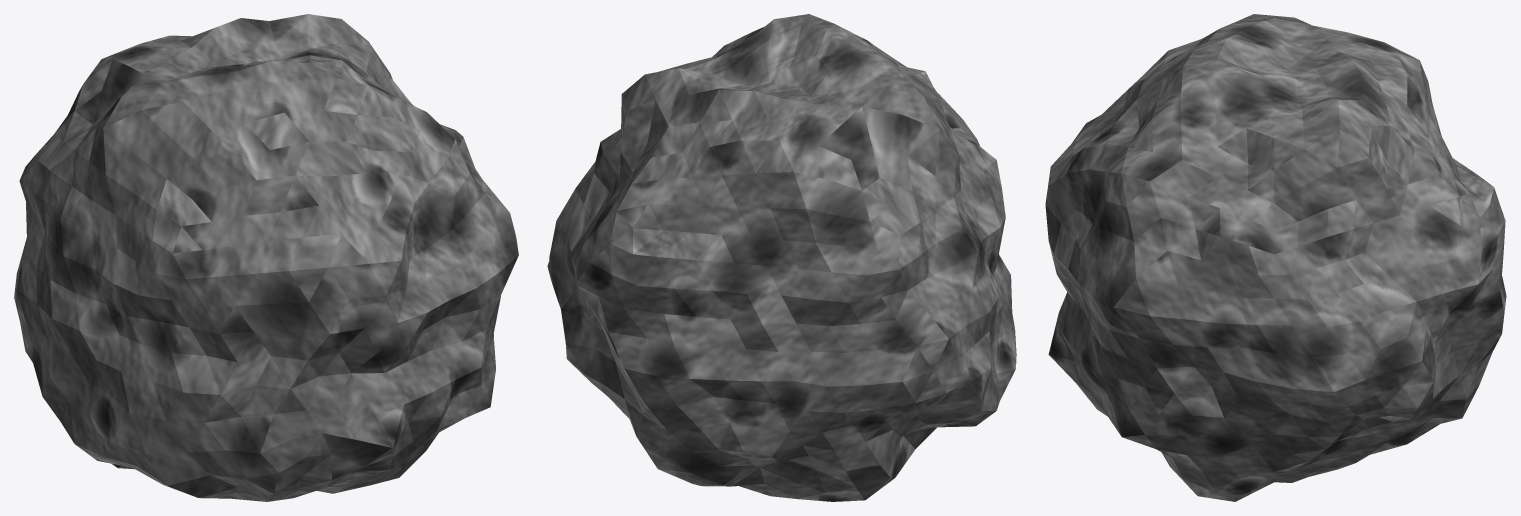
File: asteroid_medium.obj
The picture shows the model from 3 angles, left to right: view 1: azimuth 30°, elevation 25°; view 2: azimuth 150°, elevation 25°; view 3: azimuth 270°, elevation 25°; orthographic projection. The views are drawn at different scales.
Parts seen in each view (by area): view 1: asteroid_large; view 2: asteroid_large; view 3: asteroid_large.
Part boxes in pixels (x1,y1,x2,y2): asteroid_large: (14,14,518,501); asteroid_large: (547,14,1016,501); asteroid_large: (1045,14,1506,501).
Size of the model in its own units: 8.39 by 8.23 by 8.26.
1 material, 1 textured.
